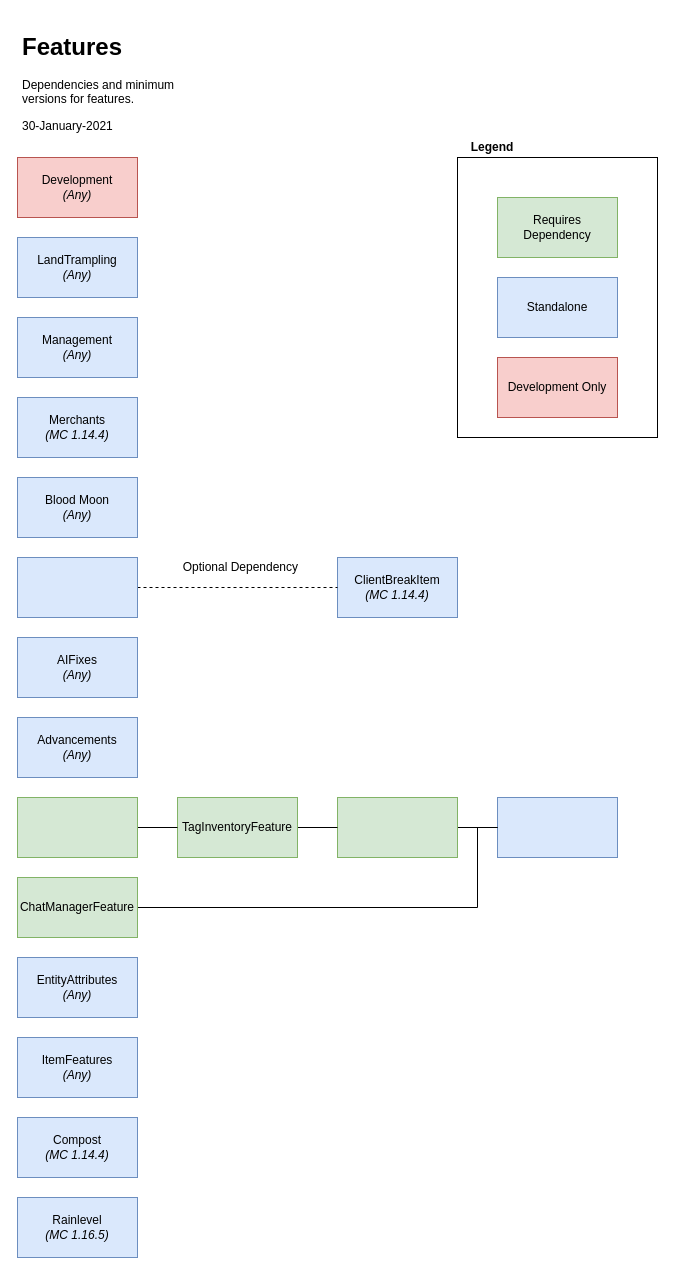
Some shapes in this 675 by 1275 pixel diagram are drawn without their labels. Each missing label, with the centre of its shape:
"BoatInventories" belongs at pixel 77 827.
"NBTAdapter (MC 1.13.2)" belongs at pixel 557 827.
"PlantHoeHarvest (MC 1.14.4)" belongs at pixel 77 587.
"TagDataHolderFeature" belongs at pixel 397 827.
